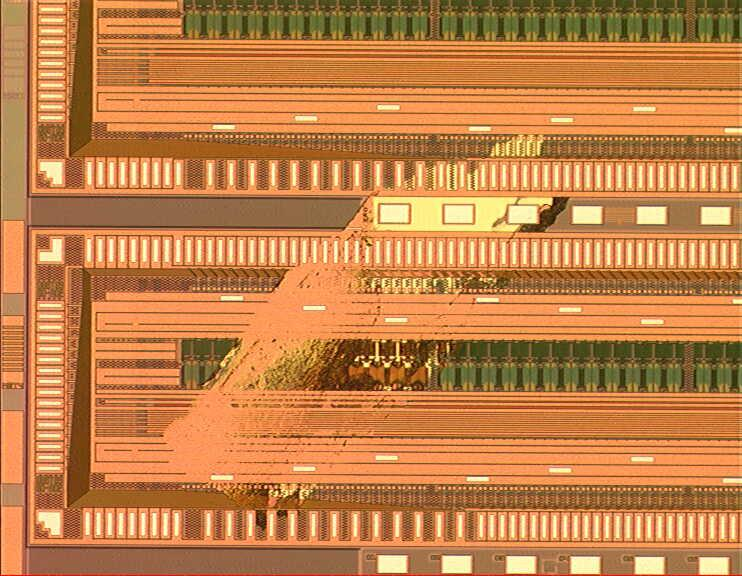BLOCK ETCH: (163, 134, 573, 534)
